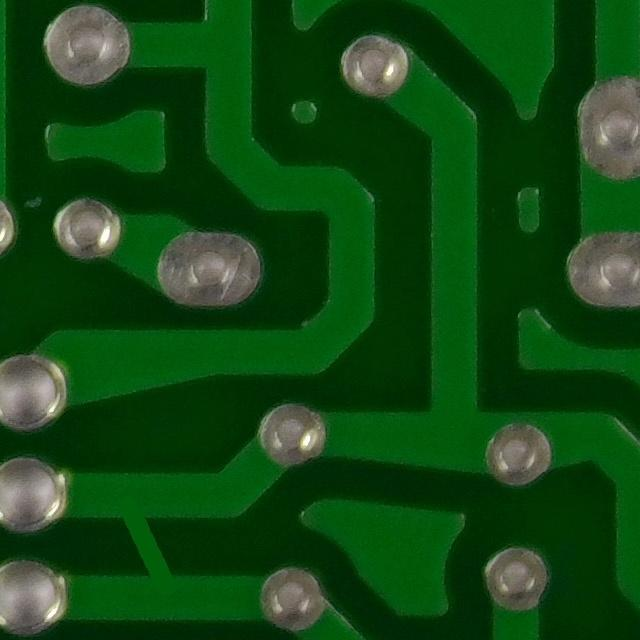short: (83, 476, 201, 629)
